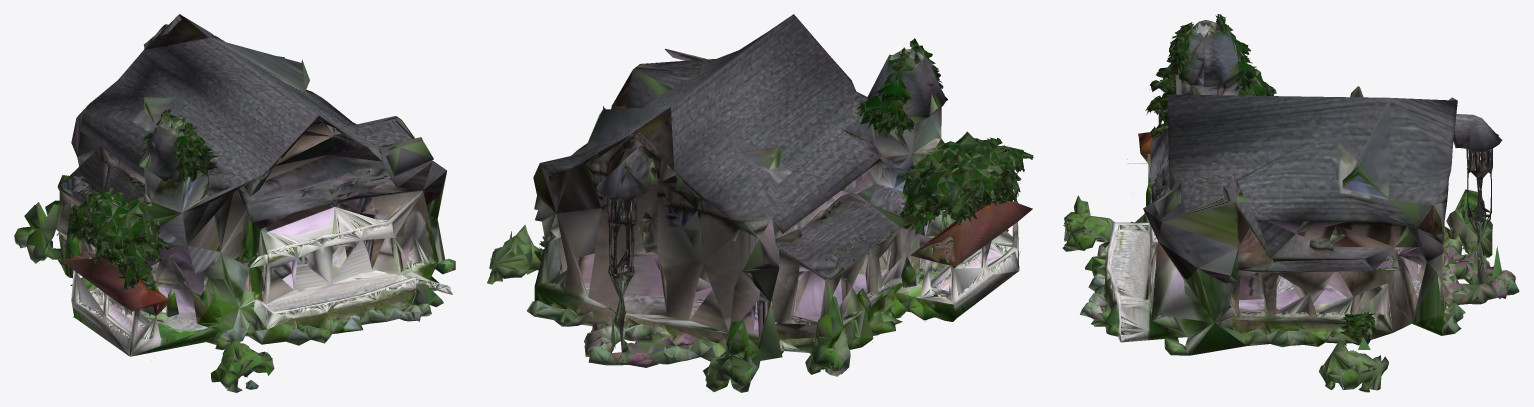
The model's file is house.glb.
3 renders of one model, left to right at view 1: azimuth 30°, elevation 25°; view 2: azimuth 150°, elevation 25°; view 3: azimuth 270°, elevation 25°, orthographic. The views are drawn at different scales.
Parts seen in each view (by area): view 1: house; view 2: house; view 3: house.
Boxes of the visible parts, left/top/right/bottom form: house: left=14, top=14, right=455, bottom=392; house: left=487, top=14, right=1033, bottom=392; house: left=1062, top=14, right=1519, bottom=392.
Bounding box in the file's own units: 1.89 × 1.05 × 1.87.
1 material, 1 textured.
